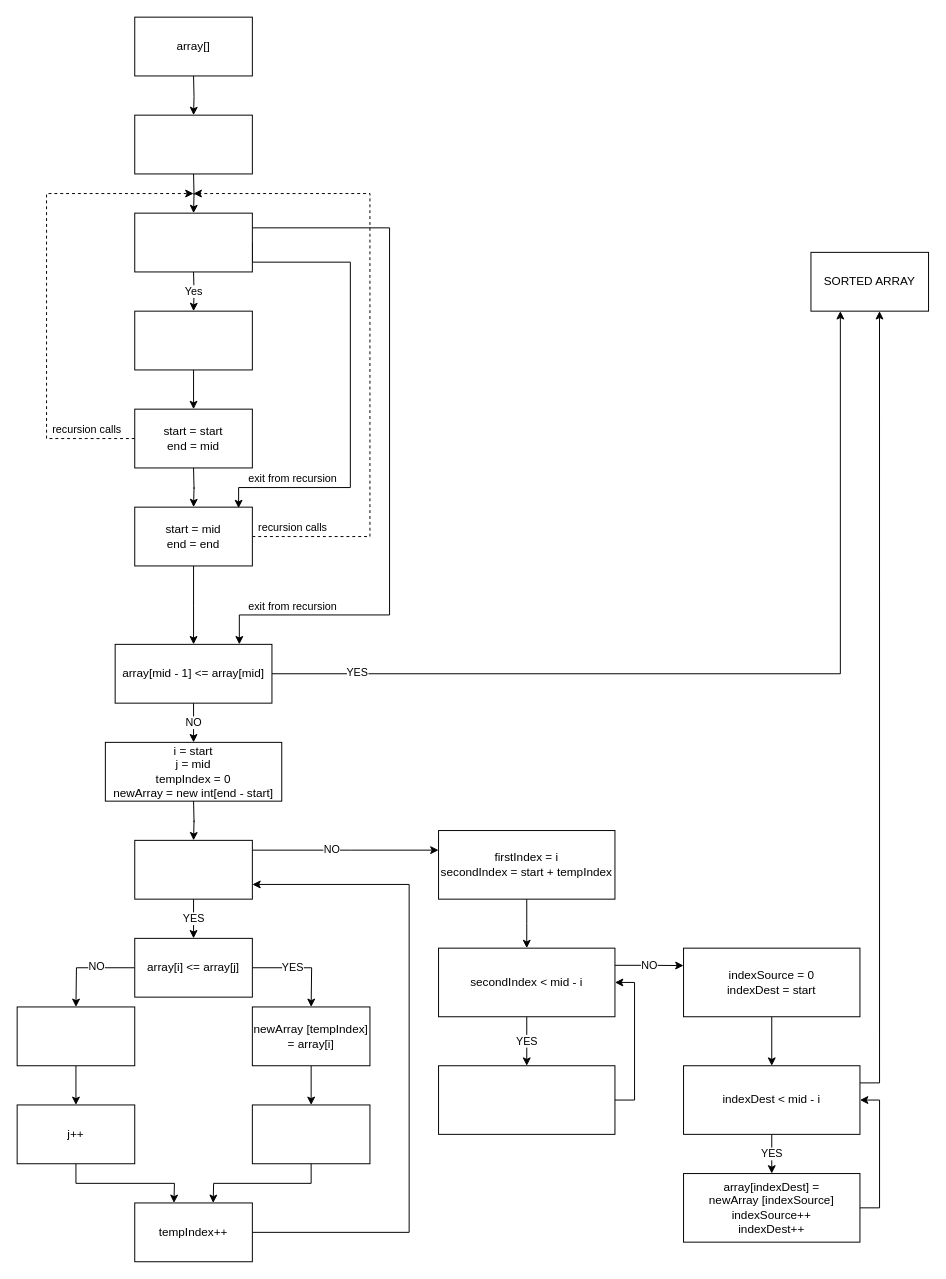
The diagram is 946 pixels wide and 1279 high, and some of its shapes have lost their labels. The shapes that lost their labels are listed below. From the top down, each one's box as (x1, y1, x2, y2) in pixels, then its label:
(134, 114, 252, 174): start = 0 end = array.length
(134, 212, 252, 272): Base case end - start > 2
(134, 310, 252, 370): mid = (start + end) / 2
(134, 839, 252, 899): i < mid && j < end
(16, 1006, 135, 1066): newArray [tempIndex] = array[j]
(438, 1065, 615, 1134): array[firstIndex] = array[secondIndex] firstIndex++ secondIndex++
(251, 1104, 370, 1164): i++
